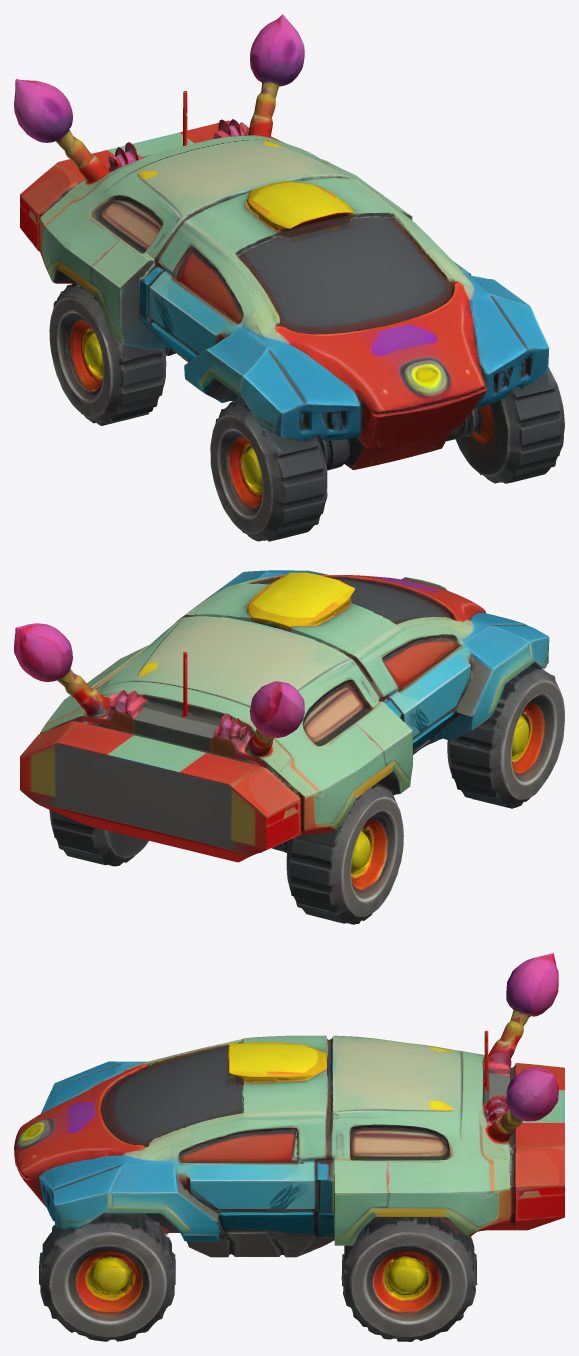
Rendered from remotecar.glb.
3 views of the same model, one above another, from view 1: azimuth 30°, elevation 25°; view 2: azimuth 150°, elevation 25°; view 3: azimuth 270°, elevation 25° (orthographic). The views are drawn at different scales.
Visible parts, largest first — view 1: model; view 2: model; view 3: model.
Boxes of the visible parts, x1,y1,x2,y2 form: model: (14,14,564,541); model: (14,570,564,924); model: (14,953,564,1341).
Bounding box in the file's own units: 1.11 × 1.01 × 1.9.
1 material, 1 textured.
